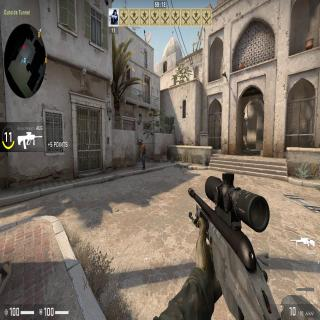T-Body: (138, 138, 147, 171)
T-Head: (139, 139, 143, 144)
